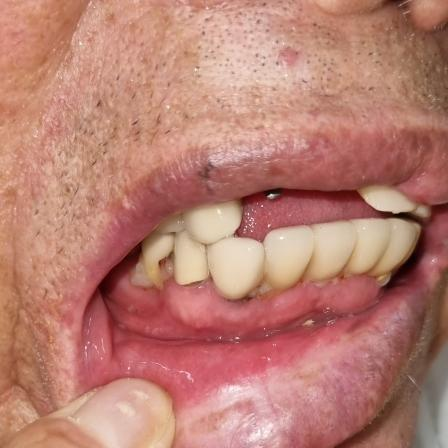Missing: (196, 176, 407, 241)
